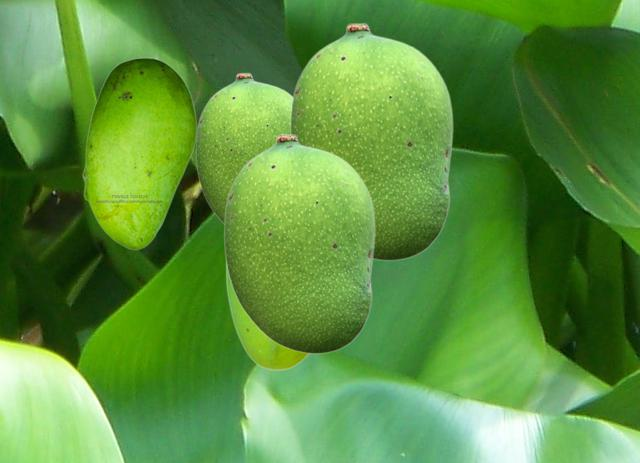green_mango: (289, 22, 452, 260), (223, 133, 374, 353), (82, 57, 196, 249), (195, 72, 291, 223), (225, 265, 309, 369)
